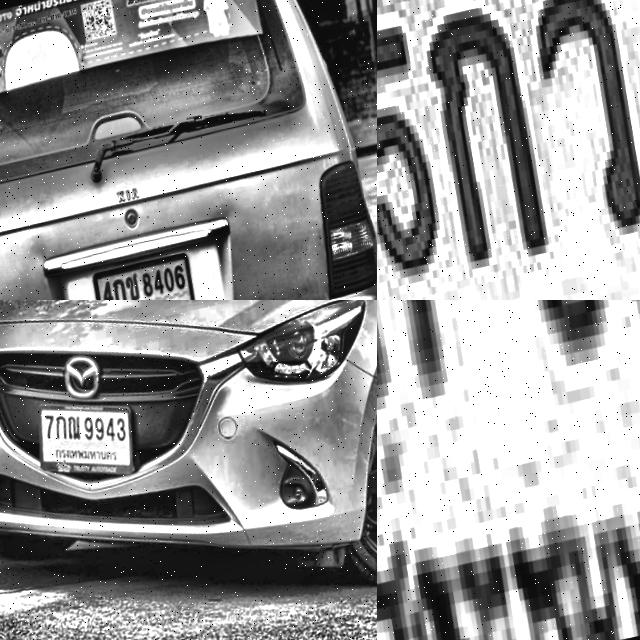license-plate: (377, 300, 640, 640), (377, 0, 640, 300), (27, 379, 152, 501), (91, 253, 202, 300)
